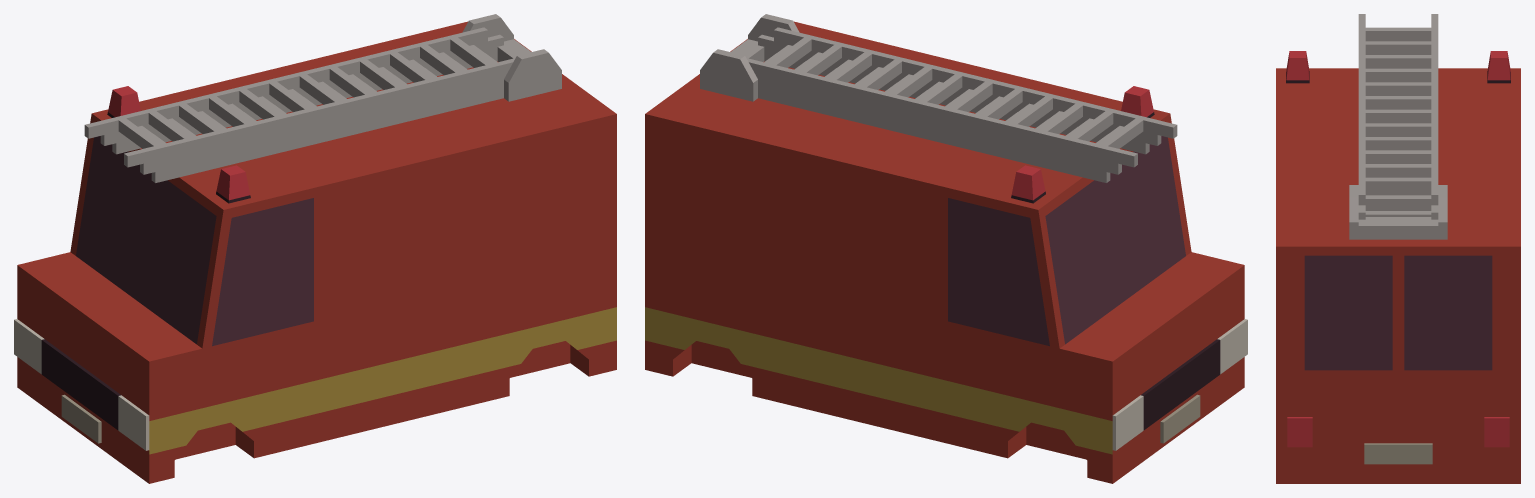
File: FireTruck.fbx
The picture shows the model from 3 angles, left to right: view 1: azimuth 30°, elevation 25°; view 2: azimuth 150°, elevation 25°; view 3: azimuth 270°, elevation 25°; orthographic projection. The views are drawn at different scales.
Parts seen in each view (by area): view 1: FireTruck; view 2: FireTruck; view 3: FireTruck.
Part boxes in pixels (x1,y1,x2,y2): FireTruck: (14,14,616,483); FireTruck: (645,14,1247,483); FireTruck: (1276,14,1520,483).
Bounding box in the file's own units: 4.46 × 2.65 × 2.15.
